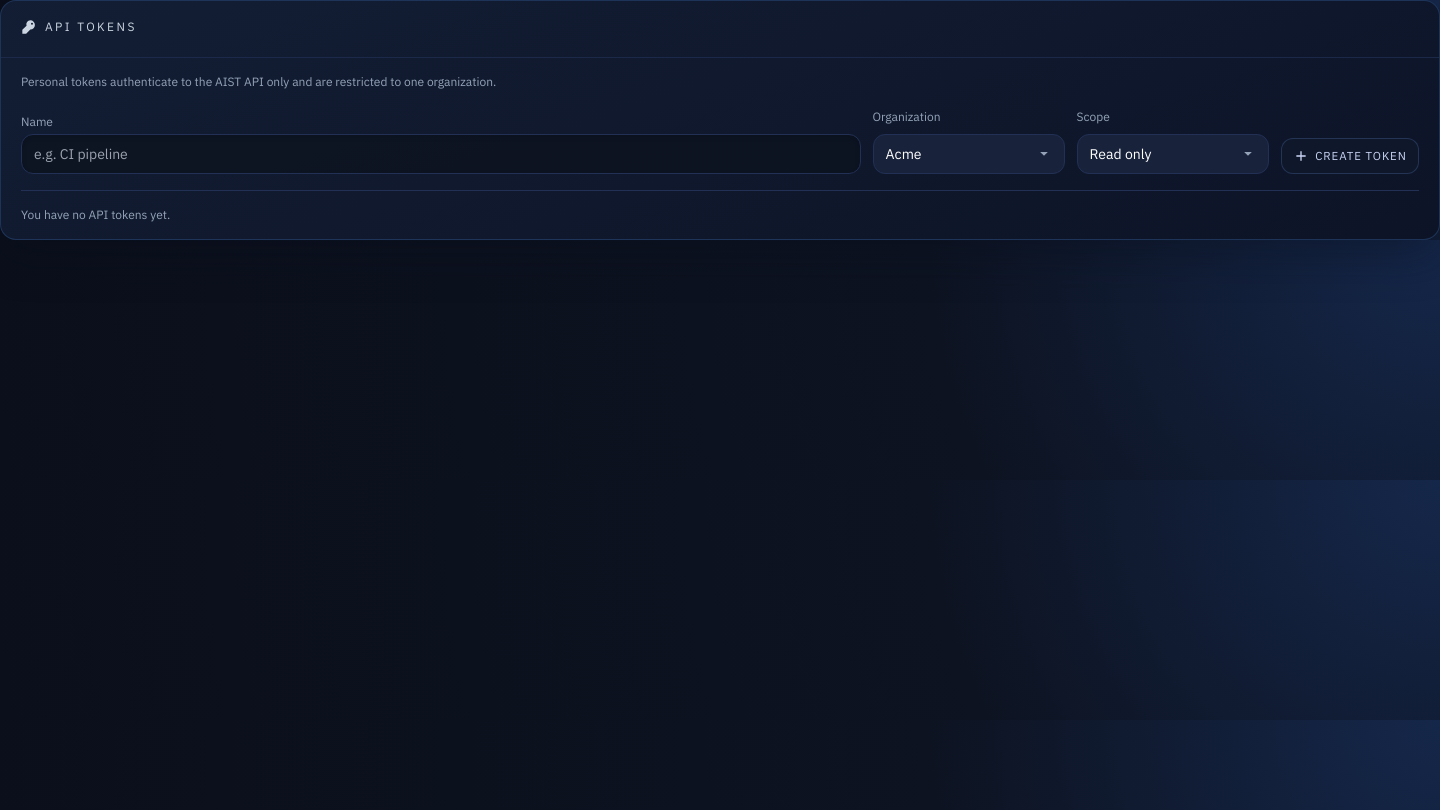
Test: MyTokensSection — created-secret lifecycle › masks the secret by default, never leaking a substring of it
Type "CI pipeline" into the field with placeholder "e.g. CI pipeline" at (441, 154), box left=21, top=134, right=861, bottom=174
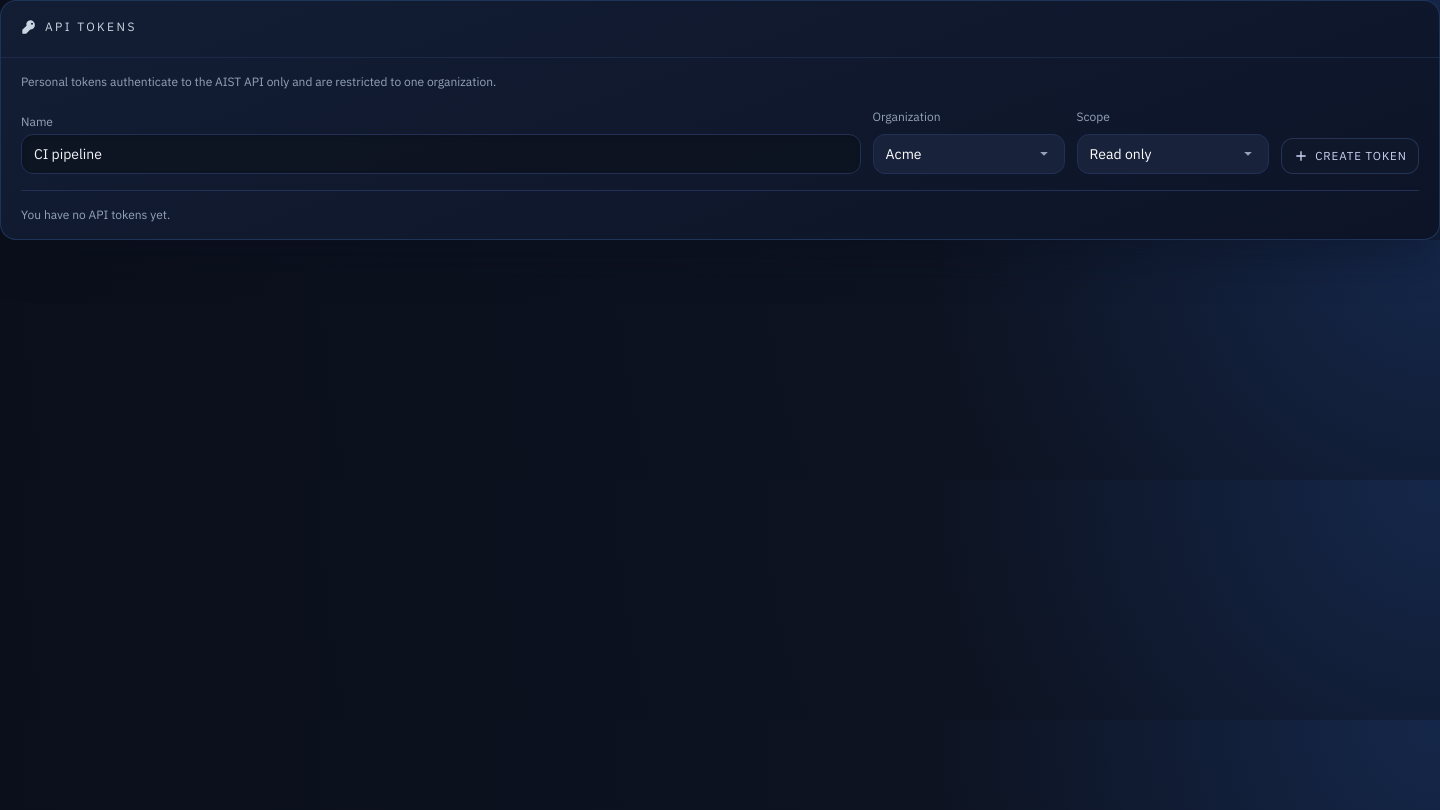
Click the button "Create token" at (1350, 156), box left=1281, top=138, right=1419, bottom=174
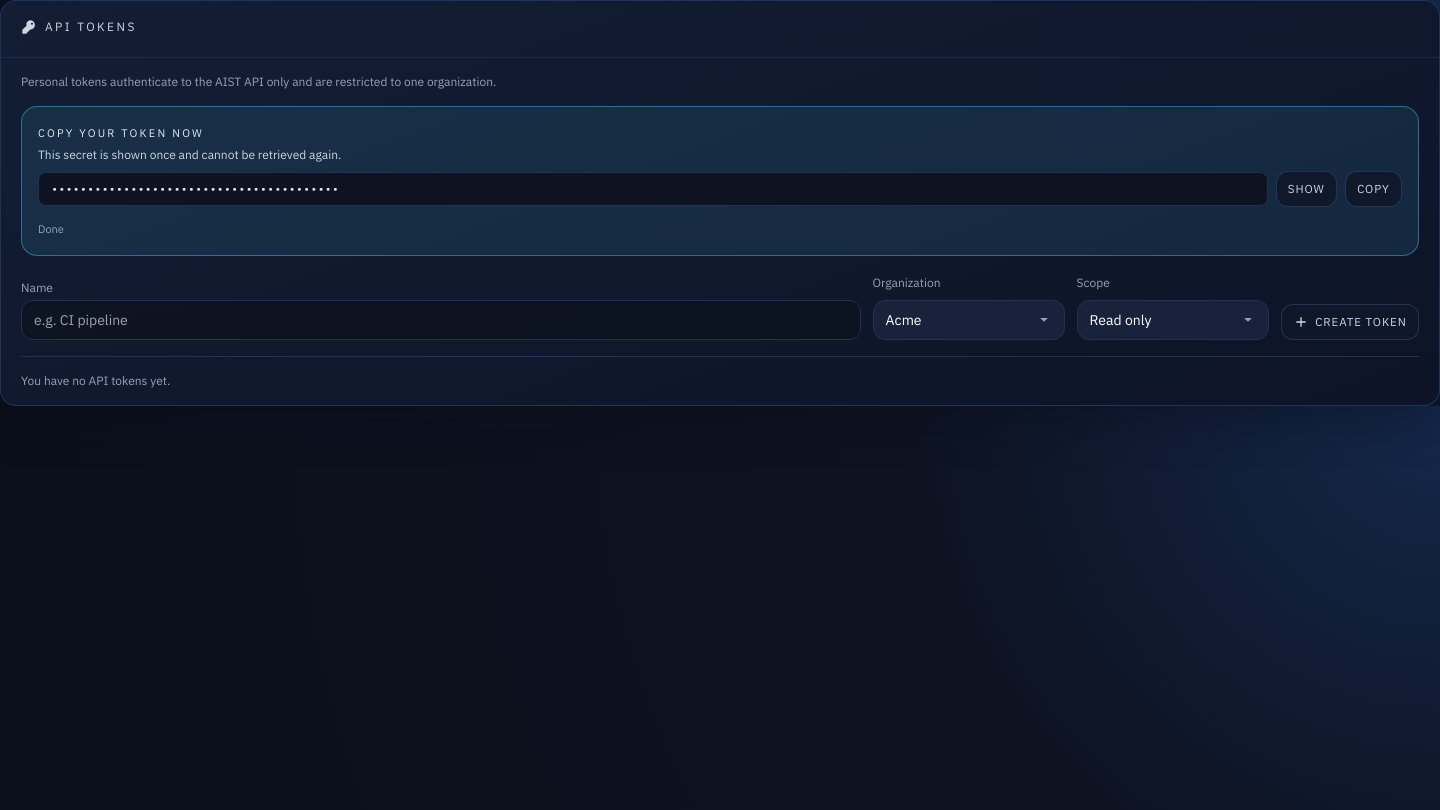
Check: the button "Show" is shown, box left=1276, top=171, right=1337, bottom=207
Check: the text "••••••••••••••••••••••••••••••••••••••••" is shown, box left=38, top=172, right=1268, bottom=206
